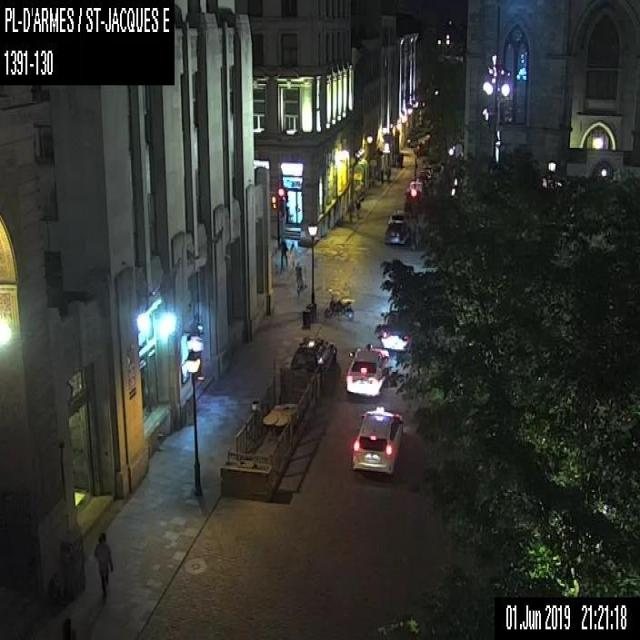pedestrian: (94, 531, 112, 600), (294, 260, 304, 298), (278, 237, 288, 267), (354, 195, 360, 216)
vehicle: (351, 404, 404, 477), (345, 343, 389, 396), (379, 309, 413, 349), (324, 290, 354, 319), (383, 222, 408, 246), (387, 210, 409, 224)
